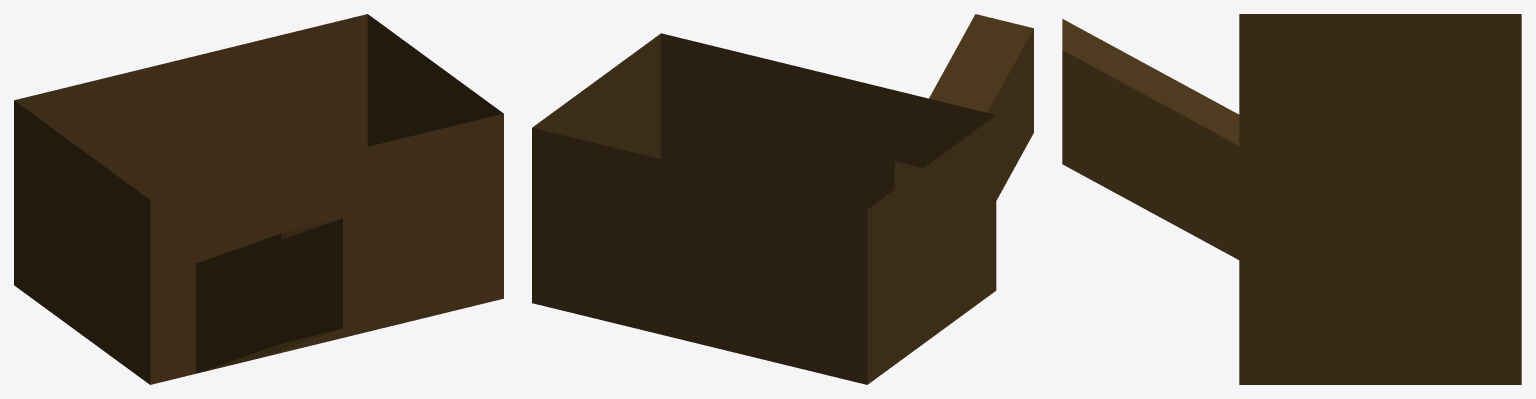
Rendered from WallsFloor2.fbx.
3 renders of one model, left to right at view 1: azimuth 30°, elevation 25°; view 2: azimuth 150°, elevation 25°; view 3: azimuth 270°, elevation 25°, orthographic. The views are drawn at different scales.
Visible parts, largest first — view 1: Plane.005; view 2: Plane.005; view 3: Plane.005.
Part boxes in pixels (bbox=[...]): Plane.005: bbox=[14, 14, 503, 384]; Plane.005: bbox=[532, 14, 1033, 384]; Plane.005: bbox=[1062, 14, 1521, 384].
Bounding box in the file's own units: 750 × 411 × 814.
